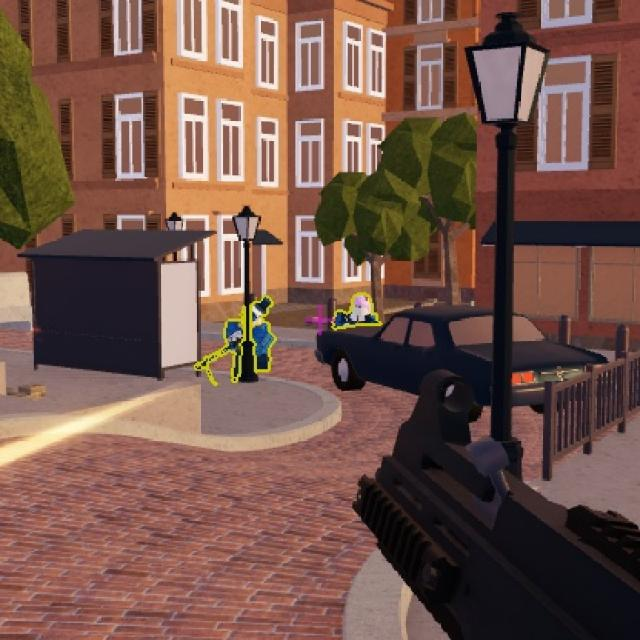player: (330, 288, 382, 336), (253, 295, 275, 377)
